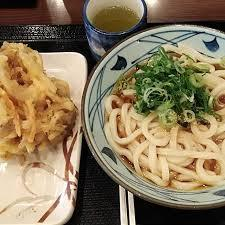bukkake: (88, 27, 225, 204)
kakiage: (1, 42, 76, 156)
